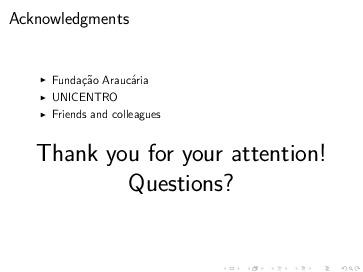subtitle: (33, 133, 334, 212), (25, 55, 223, 125)
title: (6, 5, 143, 35)
